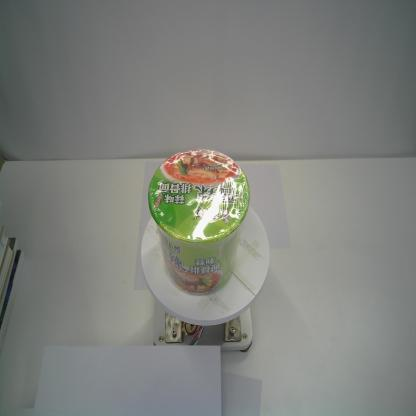Instant Noodles: (146, 145, 252, 297)
